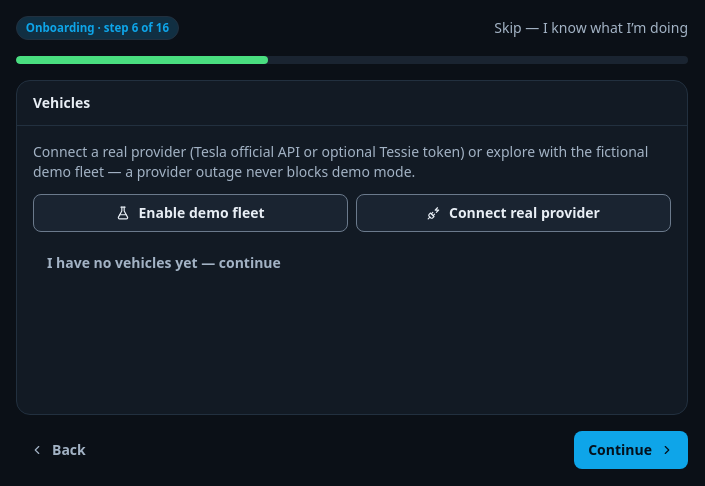
Scenario: OnboardingPage › can skip demo setup and continue to units
The image size is (705, 486).
Expected: the heading "Vehicles" is shown, [33, 93, 90, 113]
Click the button "I have no vehicles yet — continue": click(164, 263) [33, 244, 295, 282]
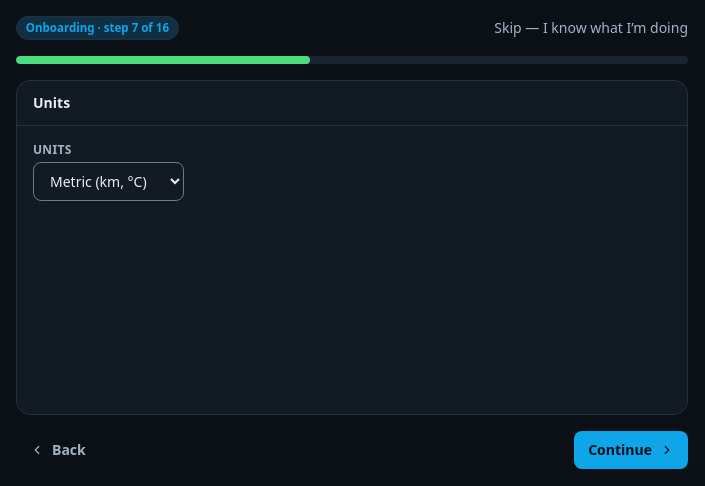
Expected: the text "Onboarding · step 7 of 16" is shown, [16, 16, 179, 40]
